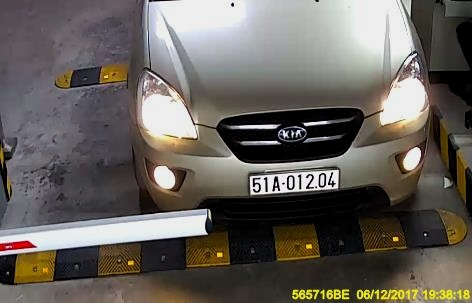plate: (246, 166, 340, 196)
